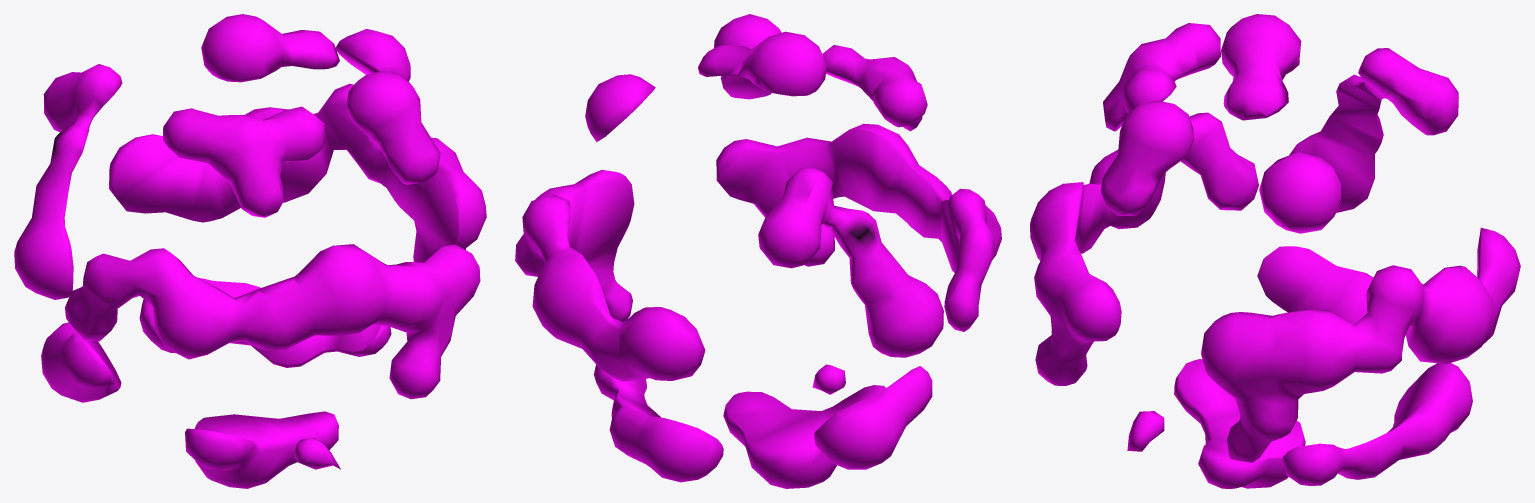
File: p_mesh_spudgun_impactflash04.fbx
3 renders of one model, left to right at view 1: azimuth 30°, elevation 25°; view 2: azimuth 150°, elevation 25°; view 3: azimuth 270°, elevation 25°, orthographic. The views are drawn at different scales.
Parts seen in each view (by area): view 1: p_trashball_goo; view 2: p_trashball_goo; view 3: p_trashball_goo.
Boxes of the visible parts, left/top/right/bottom form: p_trashball_goo: left=14, top=14, right=486, bottom=488; p_trashball_goo: left=515, top=14, right=1001, bottom=488; p_trashball_goo: left=1030, top=14, right=1520, bottom=488.
Size of the model in its own units: 9.13 by 9.43 by 8.95.
Materials: 1 (1 with a texture image).
